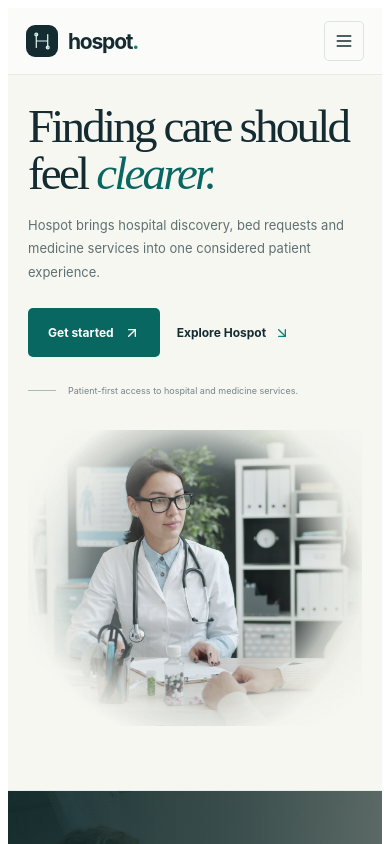
Test case: Hospot public landing page › opens and closes the accessible mobile navigation when a section is selected
The image size is (390, 844).
Later steps or results of the test are not shown.
Click the button with class "site-menu-toggle" at (344, 41), box [324,21,364,61]
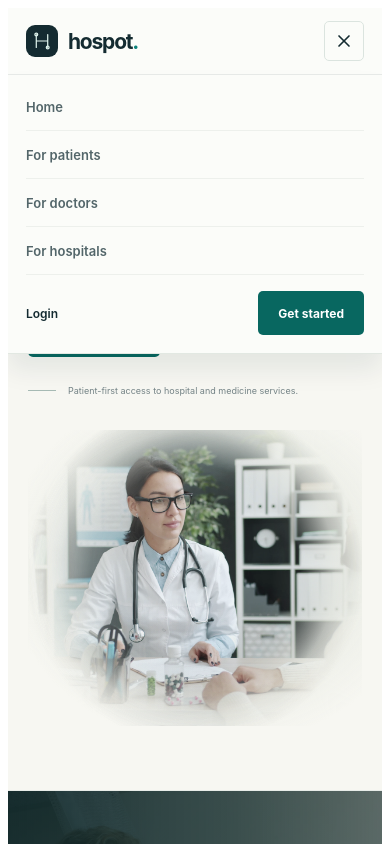
Result: the button with class "site-menu-toggle" is expanded at [324,21,364,61]
